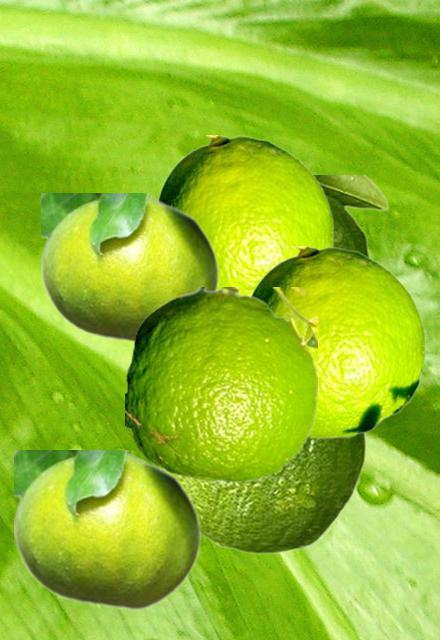dalandan: (125, 287, 316, 481), (250, 246, 425, 438), (14, 450, 201, 610), (156, 135, 333, 293), (41, 193, 219, 345), (177, 433, 368, 553), (316, 175, 388, 257)
